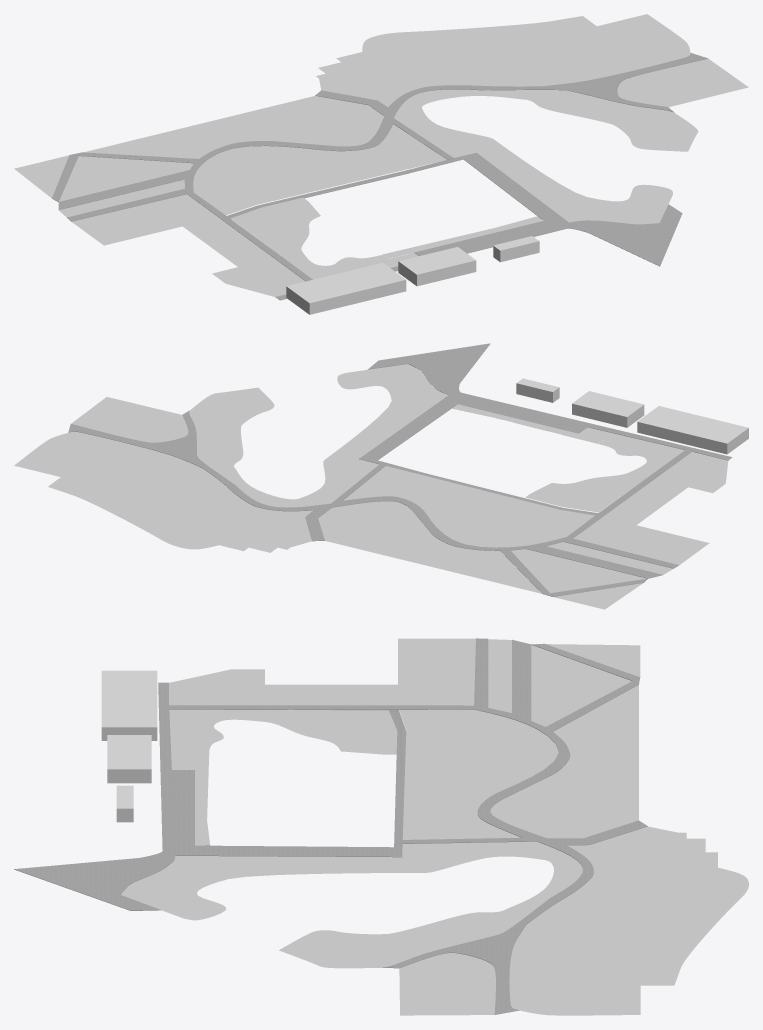
File: Site Plan.FBX
3 views of the same model, one above another, from view 1: azimuth 30°, elevation 25°; view 2: azimuth 150°, elevation 25°; view 3: azimuth 270°, elevation 25° (orthographic). The views are drawn at different scales.
Visible parts, largest first — view 1: Line1509, Line1507, Line1510, Line1511, Line1518, Line1512, Line1517, Line1508, Box177, Line1516, Line1513, Line1494 (+6 smaller); view 2: Line1509, Line1507, Line1510, Line1511, Line1518, Line1512, Line1517, Line1516, Line1508, Box177, Line1513, Line1494 (+7 smaller); view 3: Line1509, Line1507, Line1510, Line1511, Line1518, Line1512, Line1517, Line1516, Line1508, Line1513, Line1494, Box177 (+7 smaller).
Boxes of the visible parts, box(x1,y1,x2,y2) form: Line1509: box(316, 14, 690, 107); Line1507: box(393, 89, 698, 224); Line1510: box(193, 124, 446, 215); Line1511: box(84, 96, 383, 158); Line1518: box(58, 52, 707, 281); Line1512: box(71, 194, 305, 296); Line1517: box(231, 197, 418, 279); Line1508: box(617, 58, 748, 107); Box177: box(286, 263, 406, 314); Line1516: box(275, 204, 682, 300); Line1513: box(59, 156, 193, 201); Line1494: box(414, 152, 568, 255); Line1509: box(14, 432, 312, 552); Line1507: box(189, 364, 448, 507); Line1510: box(343, 466, 594, 547); Line1511: box(318, 501, 541, 593); Line1518: box(68, 410, 691, 593); Line1512: box(573, 452, 728, 564); Line1517: box(525, 427, 684, 512); Line1516: box(368, 343, 732, 460); Line1508: box(71, 397, 188, 442); Box177: box(637, 406, 748, 454); Line1513: box(511, 549, 646, 593); Line1494: box(359, 394, 586, 462); Line1509: box(509, 826, 748, 1015); Line1507: box(121, 841, 582, 968); Line1510: box(399, 709, 558, 839); Line1511: box(490, 685, 638, 838); Line1518: box(169, 638, 647, 1014); Line1512: box(169, 638, 475, 705); Line1517: box(169, 709, 397, 769); Line1516: box(14, 682, 175, 910); Line1508: box(399, 953, 495, 1015); Line1513: box(531, 645, 631, 726); Line1494: box(172, 770, 402, 857); Box177: box(101, 670, 157, 740).
Bounding box in the file's own units: 9949 × 225 × 8199.
Materials: 1 (1 with a texture image).
